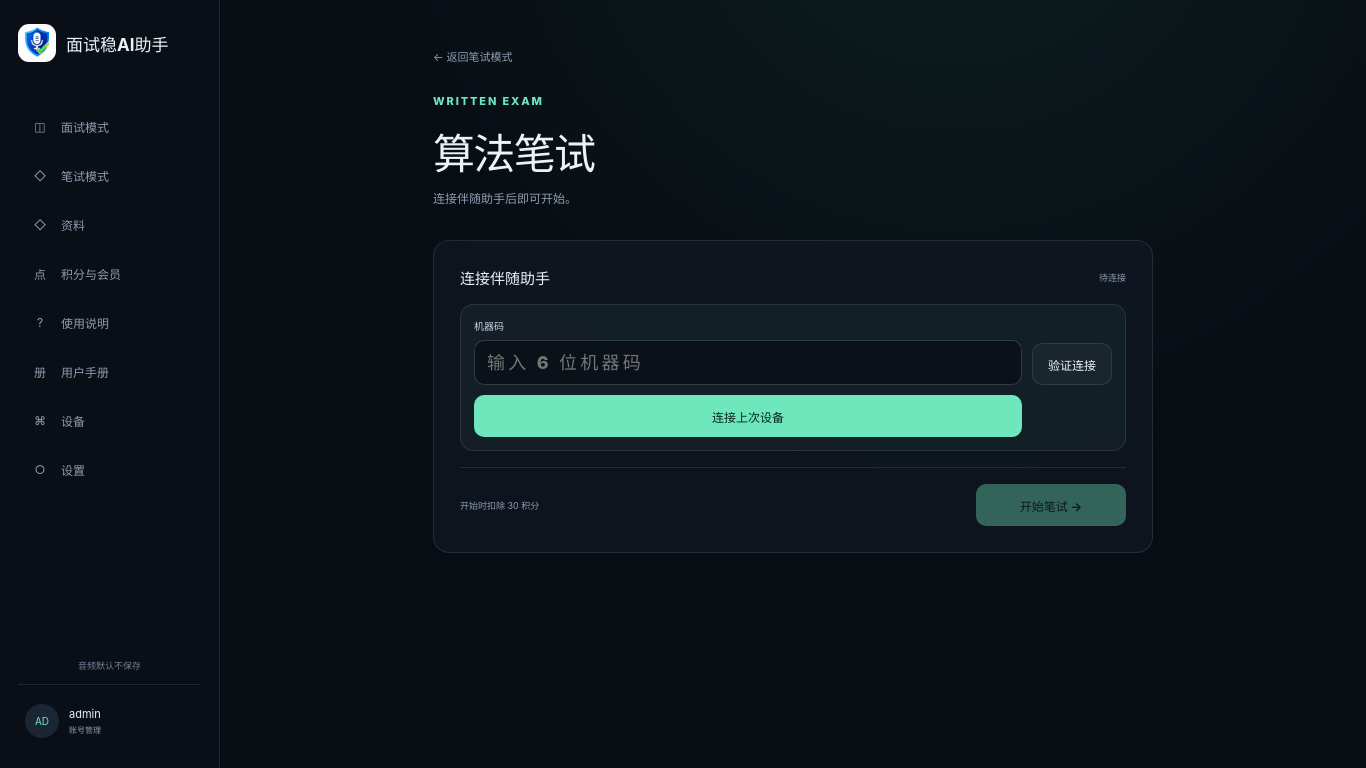
Test: OfferSteady web application › offers the matching update after written-exam binding without adding a version request
The image size is (1366, 768).
Click the button "连接上次设备" at x=748, y=416, box [474,395,1022,437]
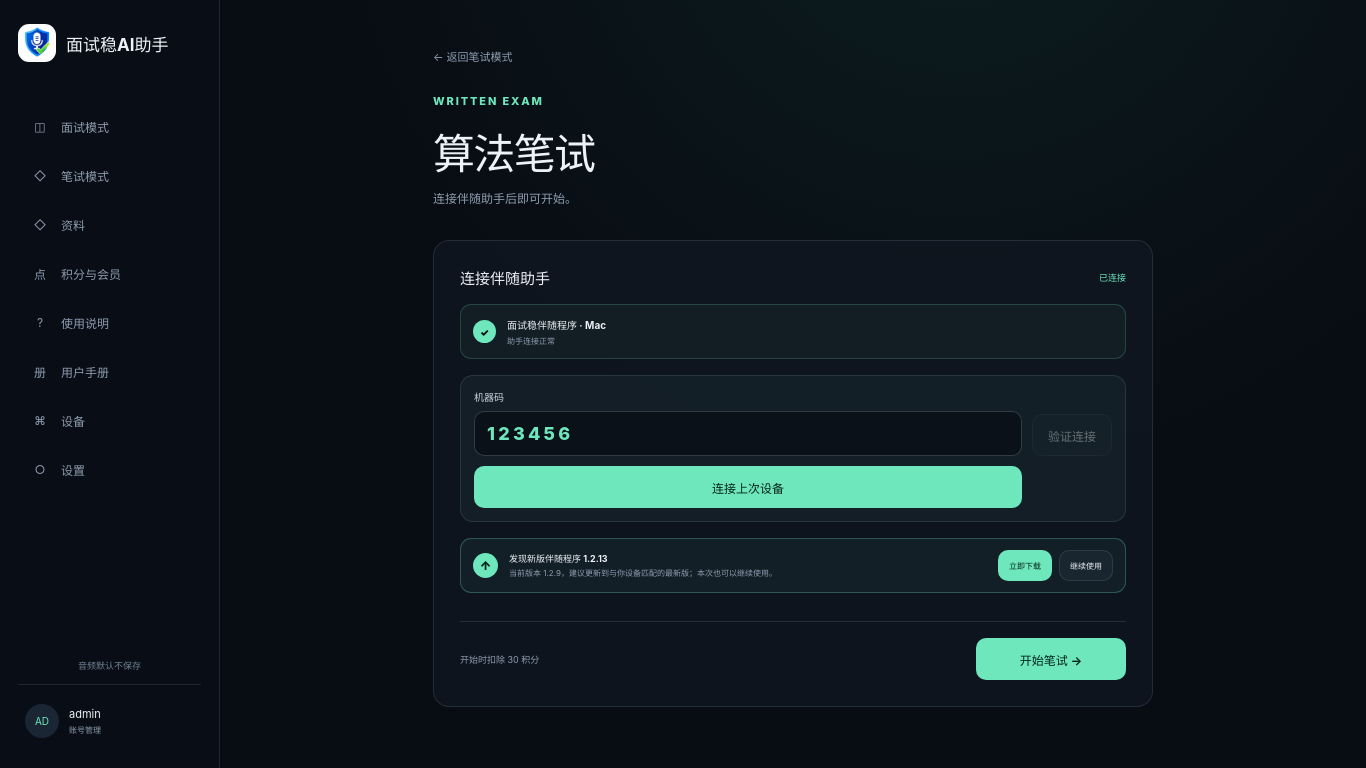
Result: the element named "伴随程序更新提醒" is shown at [460,538,1126,593]
Result: the button "开始笔试 →" is enabled at [976,638,1126,680]
